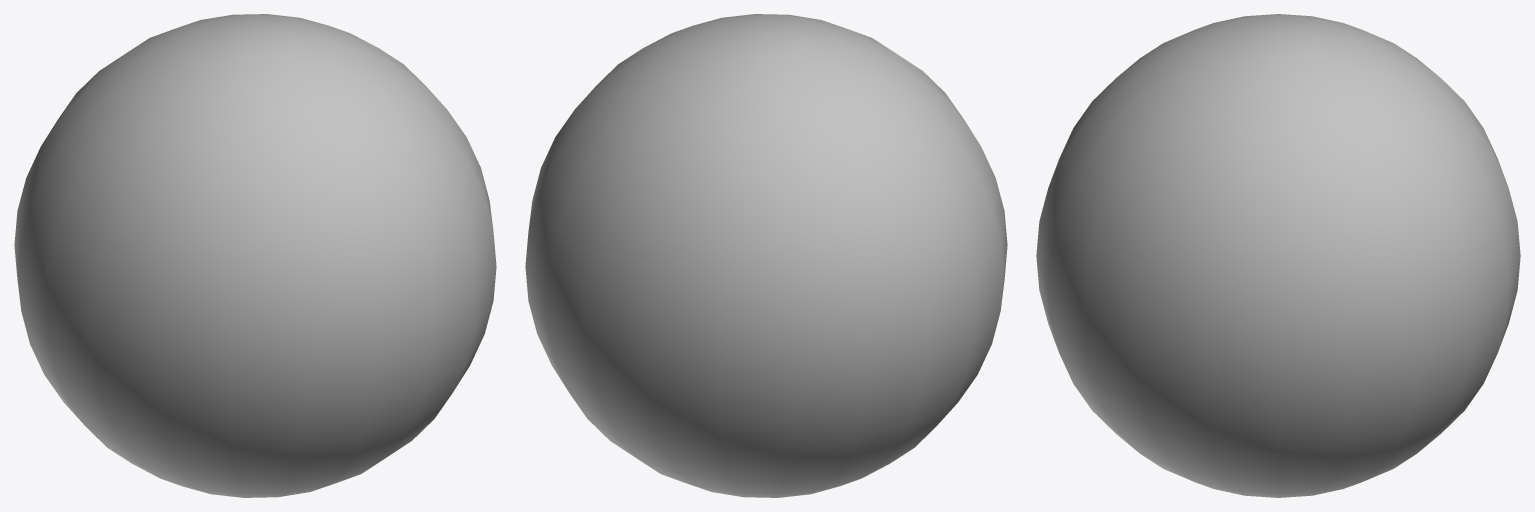
File: afterimage.obj
3 renders of one model, left to right at view 1: azimuth 30°, elevation 25°; view 2: azimuth 150°, elevation 25°; view 3: azimuth 270°, elevation 25°, orthographic.
Parts seen in each view (by area): view 1: pSphere1; view 2: pSphere1; view 3: pSphere1.
Part boxes in pixels (<box>): pSphere1: <box>14,14,496,497</box>; pSphere1: <box>525,14,1007,497</box>; pSphere1: <box>1036,14,1520,497</box>.
Size of the model in its own units: 2 by 2 by 2.
1 material, 1 textured.
